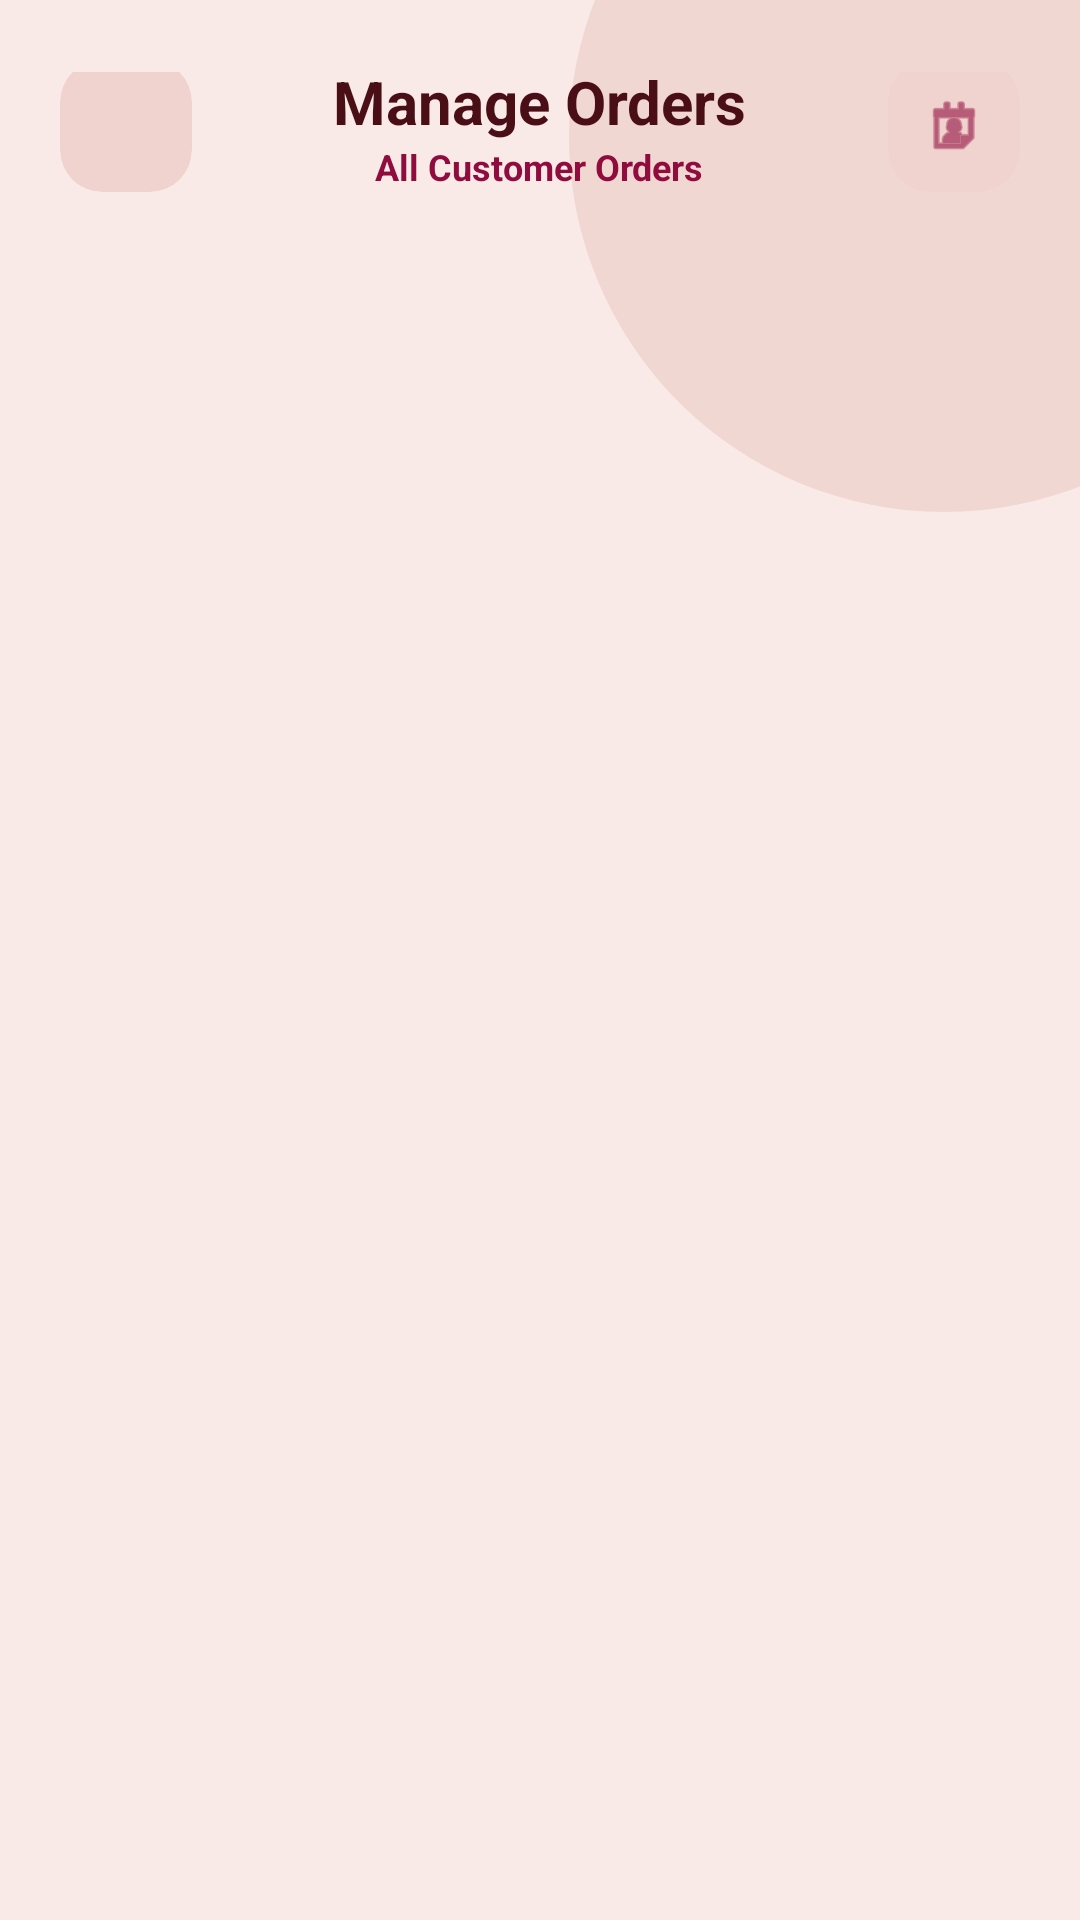

Point at icon controls on the screen. Image size 1080x1920, points as (x=x, y=y).
calendar: (x=954, y=125)
